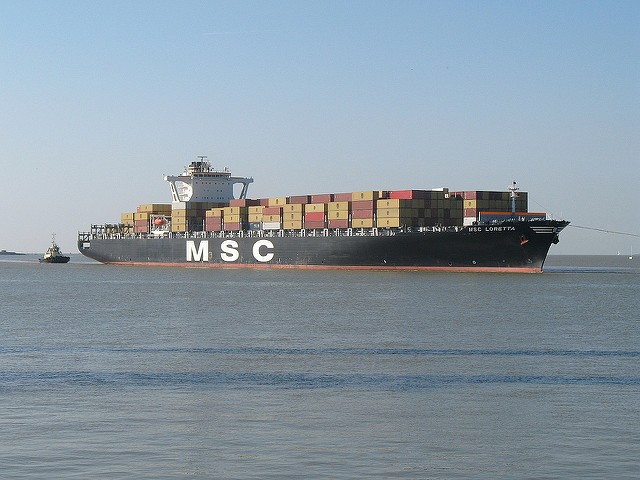container_ship: (79, 160, 567, 276)
tug_boat: (40, 229, 71, 270)
